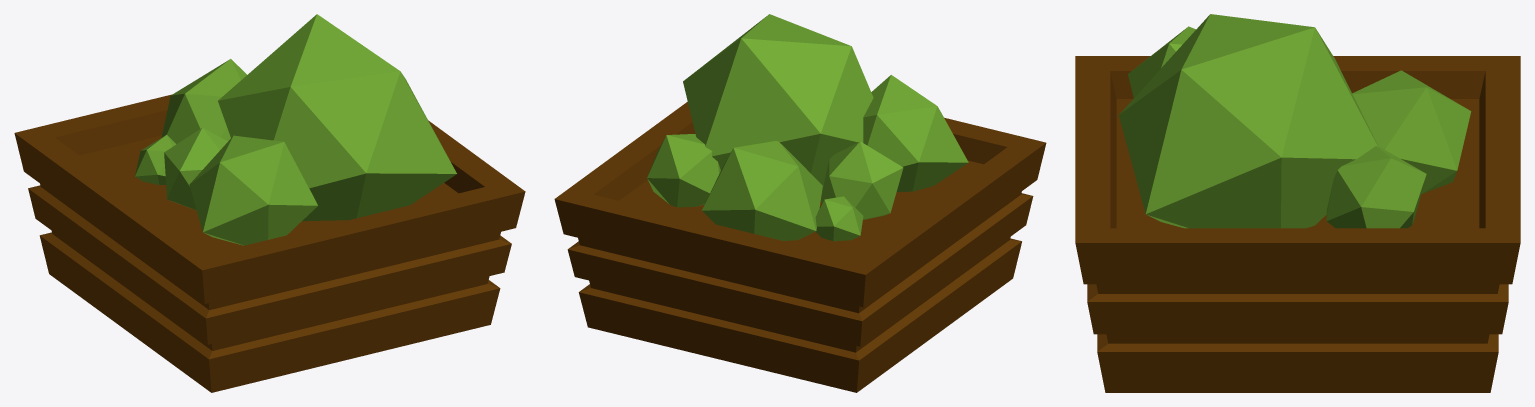
The model's file is Flower6.fbx.
3 renders of one model, left to right at view 1: azimuth 30°, elevation 25°; view 2: azimuth 150°, elevation 25°; view 3: azimuth 270°, elevation 25°, orthographic. The views are drawn at different scales.
Parts seen in each view (by area): view 1: Cube.020; view 2: Cube.020; view 3: Cube.020.
Boxes of the visible parts, box(x1,y1,x2,y2) form: Cube.020: box(14, 14, 525, 392); Cube.020: box(554, 14, 1046, 392); Cube.020: box(1075, 14, 1520, 392).
Size of the model in its own units: 75.46 by 59.53 by 75.93.
